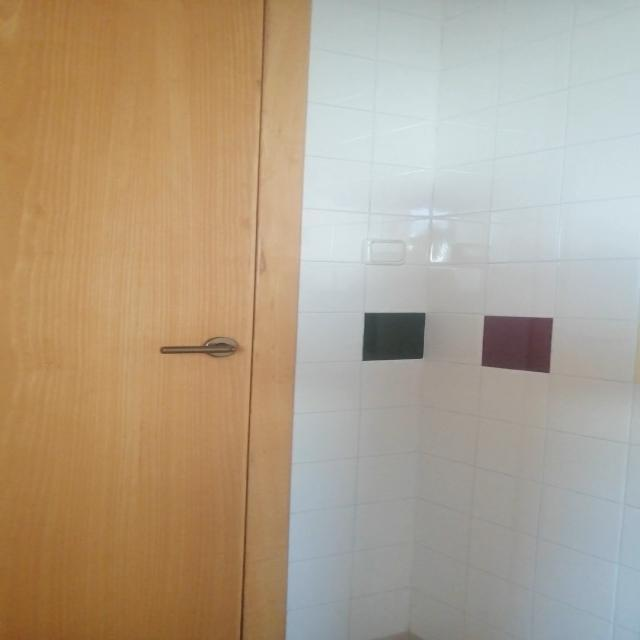door_handle: (156, 341, 241, 355)
